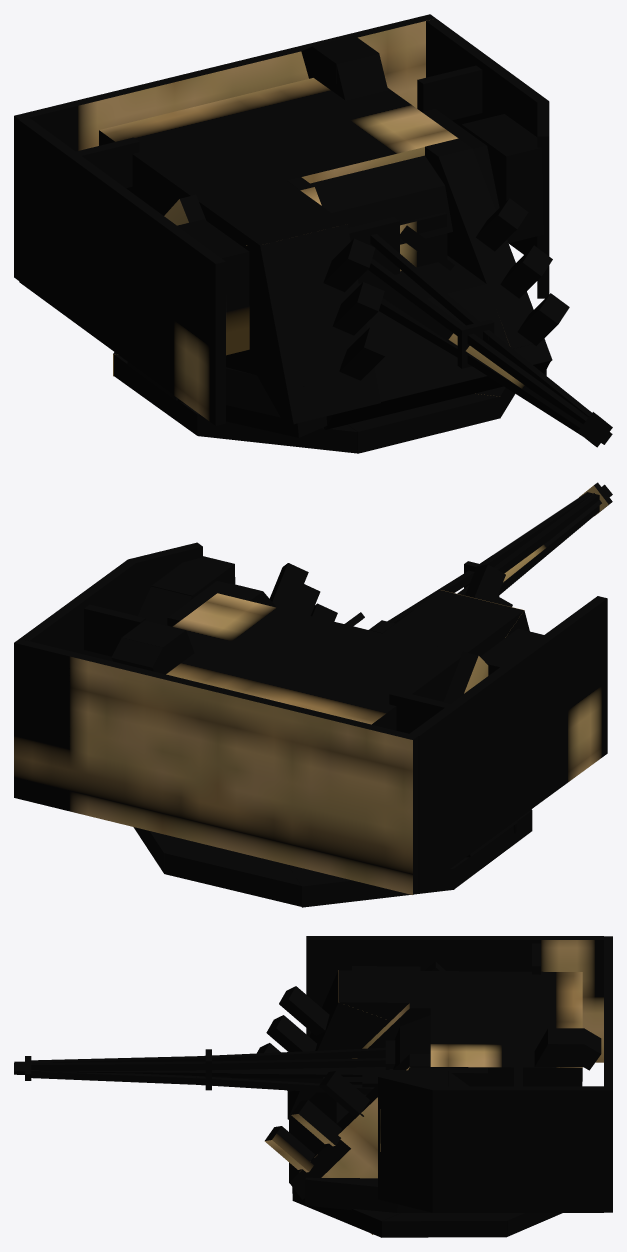
Rendered from btr4e_turret.obj.
3 views of the same model, one above another, from view 1: azimuth 30°, elevation 25°; view 2: azimuth 150°, elevation 25°; view 3: azimuth 270°, elevation 25° (orthographic). The views are drawn at different scales.
Parts seen in each view (by area): view 1: turret, gun; view 2: turret, gun; view 3: turret, gun.
Boxes of the visible parts, bbox=[...] form: turret: bbox=[14, 14, 569, 453]; gun: bbox=[348, 212, 612, 447]; turret: bbox=[14, 542, 607, 907]; gun: bbox=[344, 482, 612, 626]; turret: bbox=[256, 936, 612, 1237]; gun: bbox=[14, 1040, 395, 1094].
Bounding box in the file's own units: 2.53 × 1.45 × 4.15.
